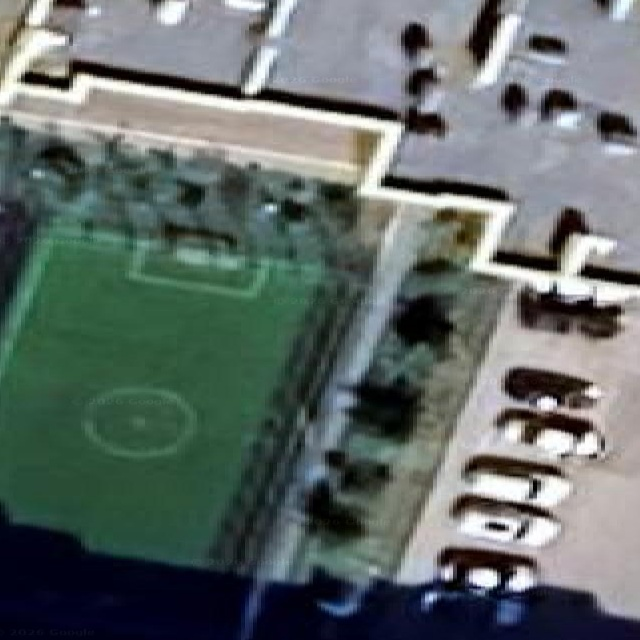car: (420, 547, 537, 624), (451, 495, 559, 547), (463, 455, 571, 507), (496, 408, 604, 457), (517, 287, 622, 337), (437, 547, 537, 595), (504, 367, 602, 409), (347, 380, 419, 436), (303, 476, 362, 537), (28, 140, 85, 200), (310, 567, 375, 617), (393, 293, 453, 347), (324, 448, 390, 491), (347, 403, 415, 436), (344, 379, 419, 406), (595, 111, 635, 151), (540, 88, 580, 127), (527, 32, 566, 60), (151, 0, 190, 24), (533, 51, 547, 60), (609, 148, 612, 150), (555, 56, 556, 59)
